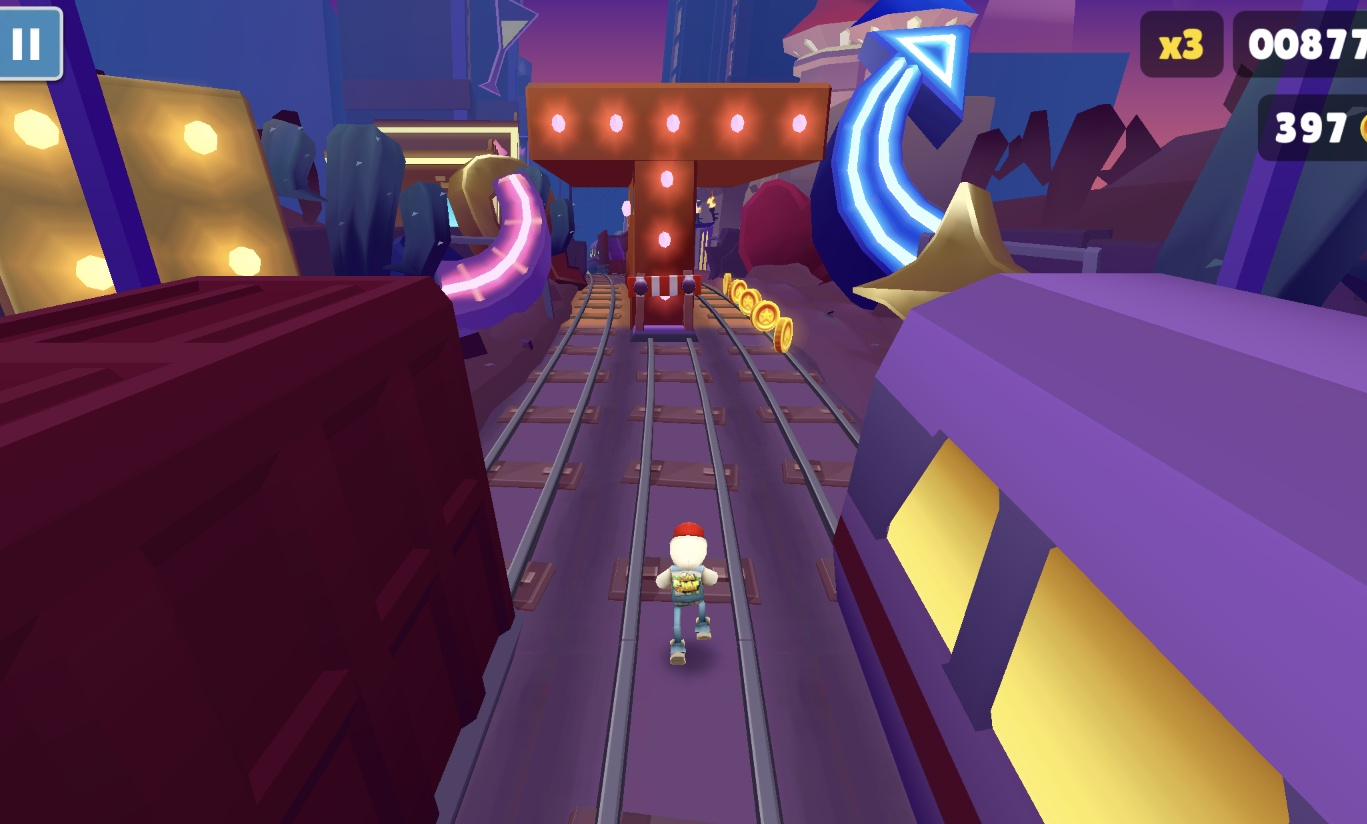ground_barrier: (627, 272, 702, 346)
pillar: (626, 158, 702, 336)
train: (840, 265, 1367, 824), (0, 276, 517, 824)
